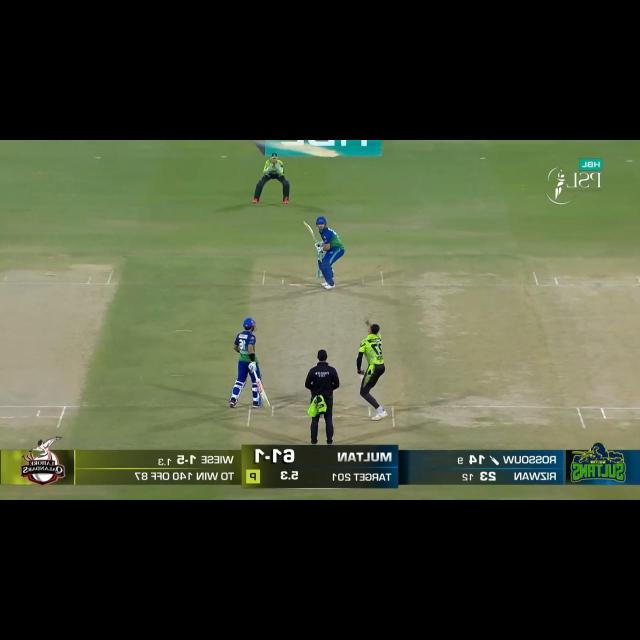bat: (252, 380, 270, 407), (302, 218, 318, 244)
toe: (302, 218, 311, 230), (263, 398, 271, 407)
